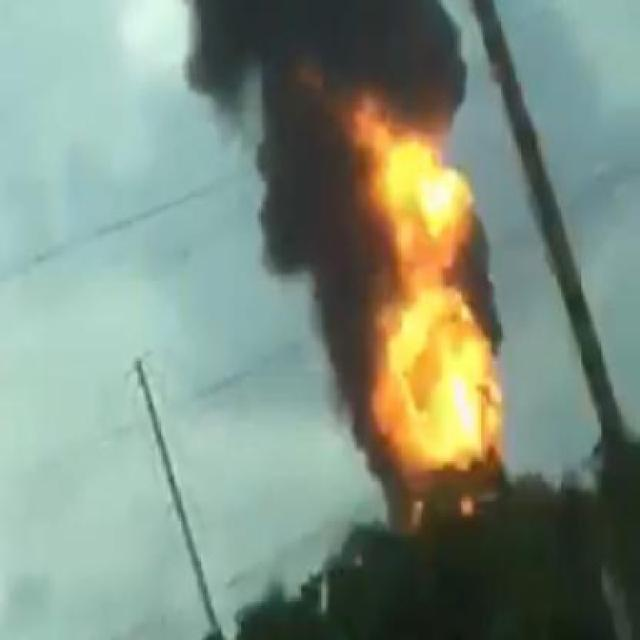Fire: (352, 110, 498, 467)
